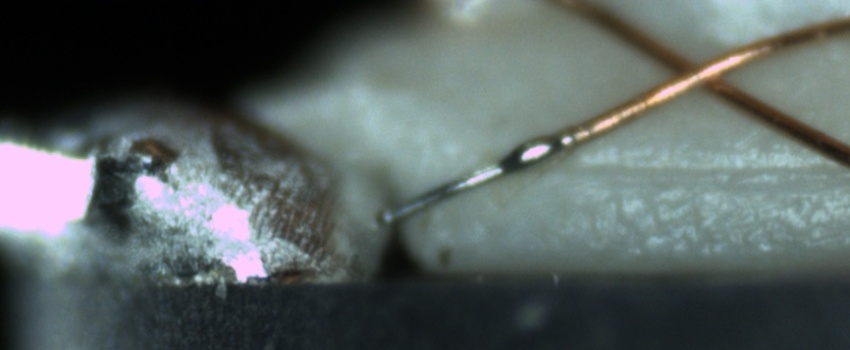CL: (643, 36, 747, 106)
DL: (557, 139, 850, 196)
TS: (383, 129, 573, 227)
TTCW: (377, 109, 622, 226)
